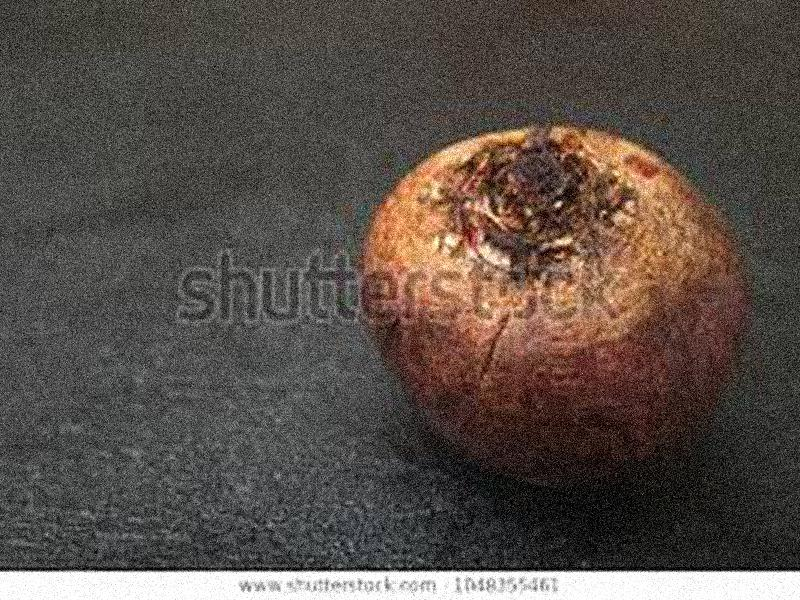Beet: (364, 128, 755, 482)
